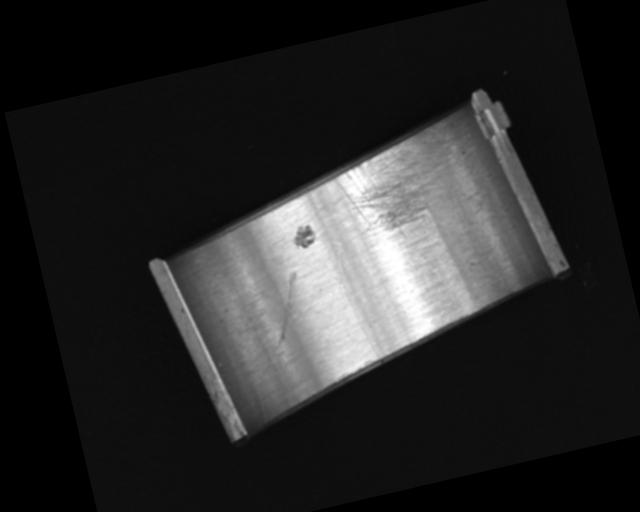bruise: (289, 223, 318, 251)
nick: (331, 240, 380, 365), (262, 270, 311, 347)
scratch: (325, 123, 460, 250)
